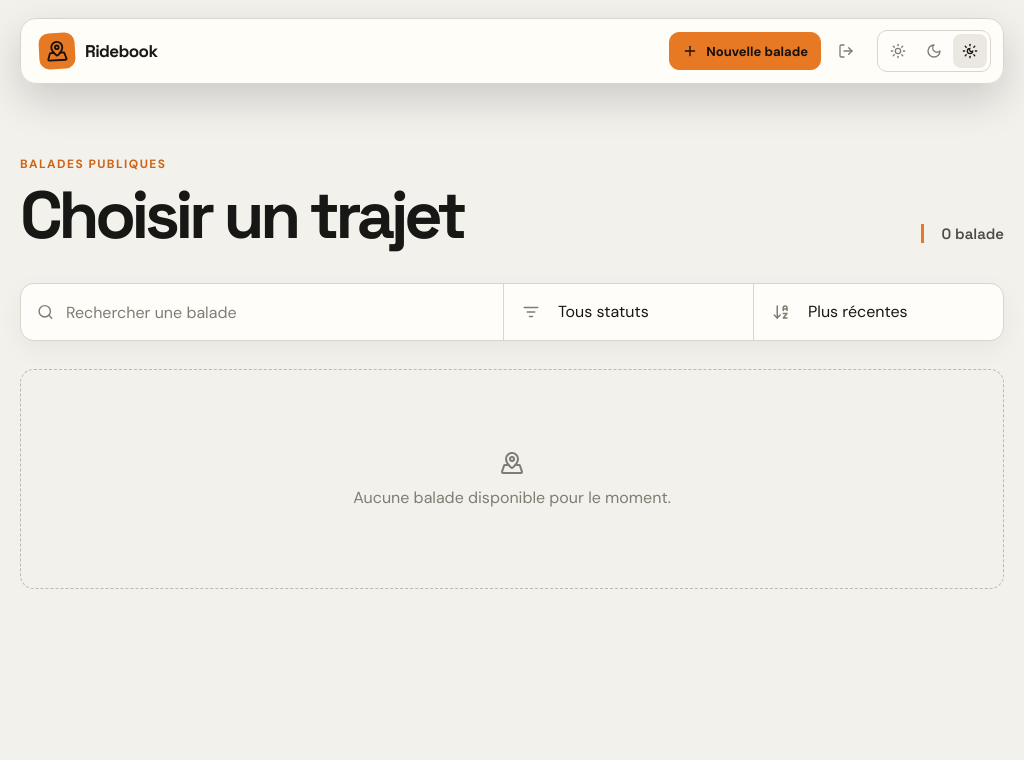
Test: App › should create a trip and redirect to its pending detail
Click the button "Nouvelle balade".
click(745, 51)  # box [669,32,821,70]
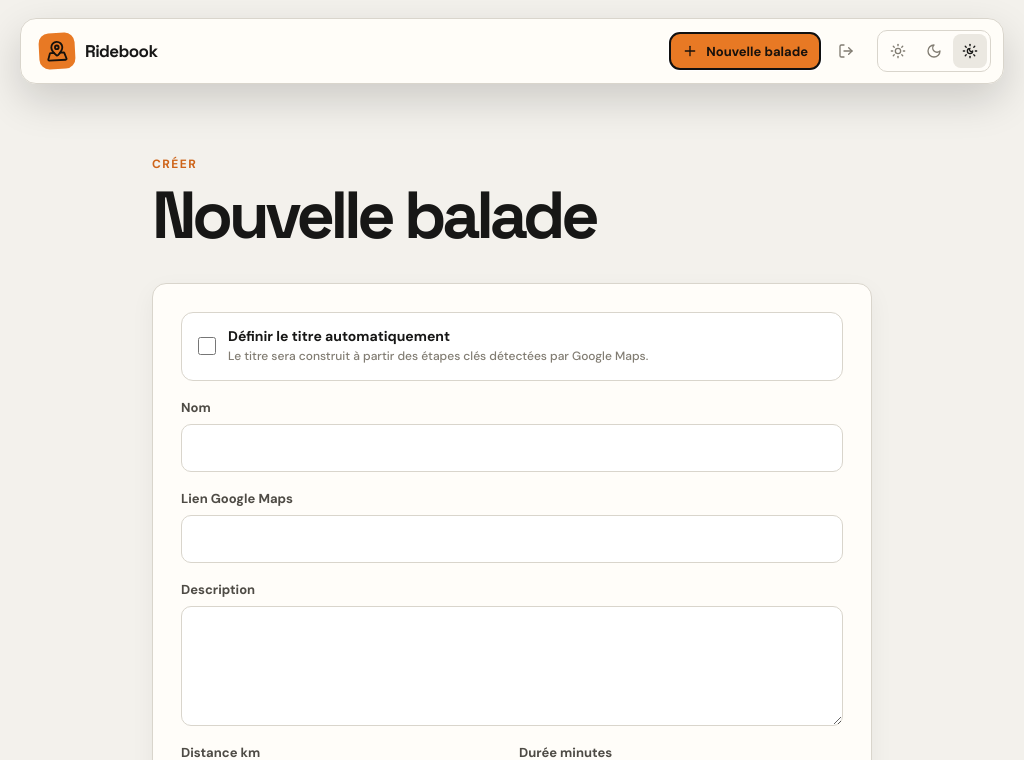
Type "Boucle vallée" into the field labelled "Nom".
click(512, 448); type("Boucle vallée")  # box [181,424,843,472]
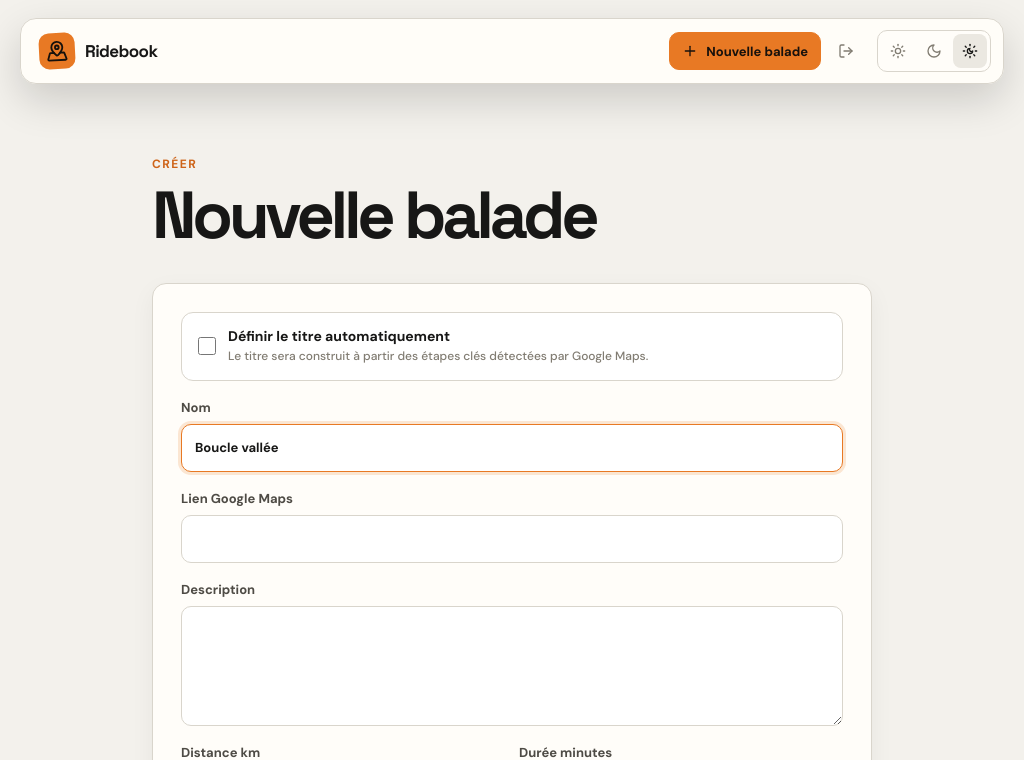
Type "https://www.google.com/maps/dir/example" into the field labelled "Lien Google Maps".
click(512, 539); type("https://www.google.com/maps/dir/example")  # box [181,515,843,563]
(page scrolled)
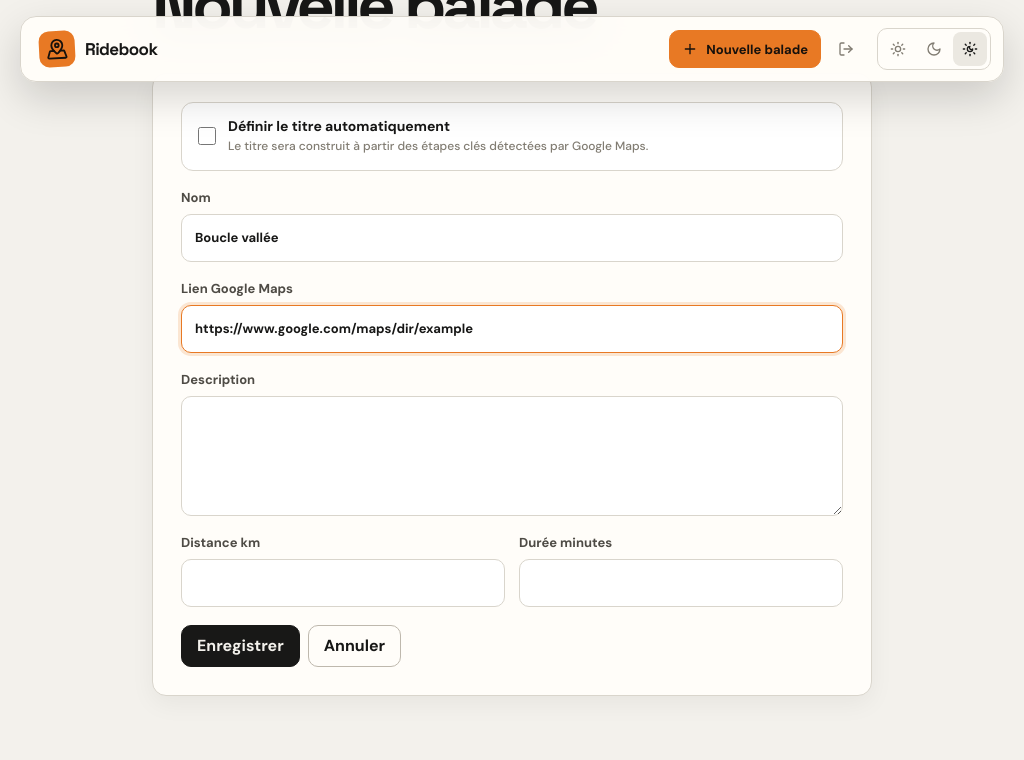
Click the button "Enregistrer".
click(240, 646)  # box [181,625,300,667]
(page scrolled)
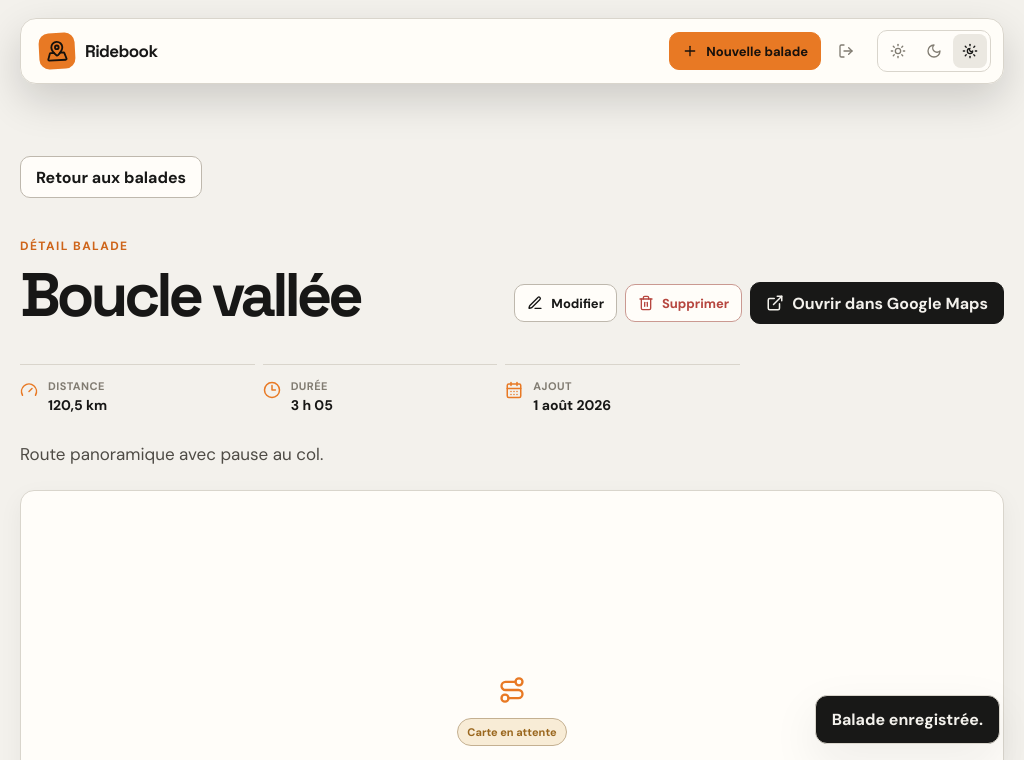
Expected: the text "Carte en attente" is shown, [457,718,567,746]
